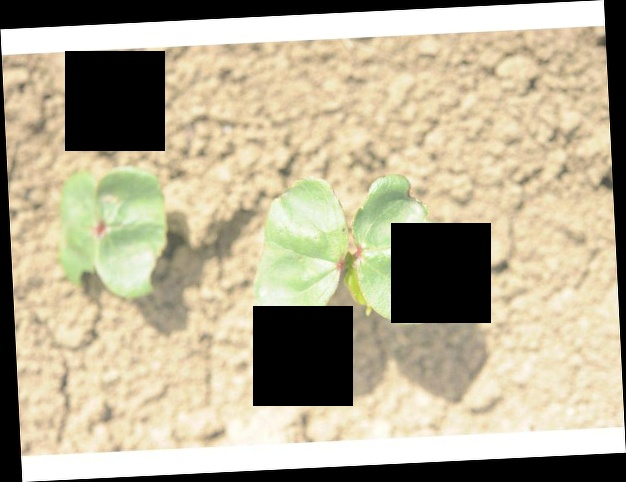cotton: (253, 172, 454, 324), (57, 166, 170, 301)
